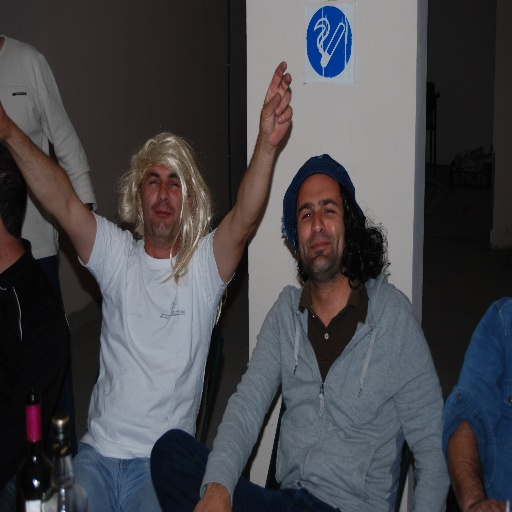hand: (253, 69, 295, 145), (193, 490, 230, 511), (468, 496, 506, 511), (0, 96, 9, 140)
